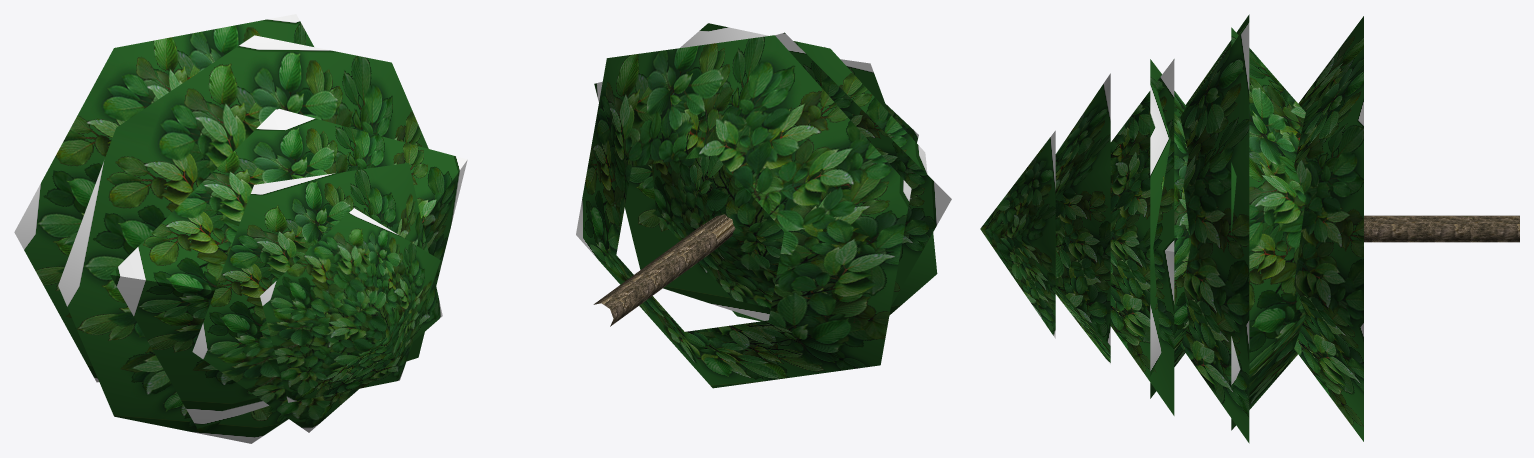
File: xss_x05.gltf
3 renders of one model, left to right at view 1: azimuth 30°, elevation 25°; view 2: azimuth 150°, elevation 25°; view 3: azimuth 270°, elevation 25°, orthographic.
Visible parts, largest first — view 1: huitugou_2195_108; view 2: huitugou_2195_108; view 3: huitugou_2195_108.
Part boxes in pixels (<box>): huitugou_2195_108: <box>14,14,467,443</box>; huitugou_2195_108: <box>576,23,951,388</box>; huitugou_2195_108: <box>980,14,1519,443</box>.
Bounding box in the file's own units: 15.93 × 15.93 × 18.84.
2 materials, 2 textured.
